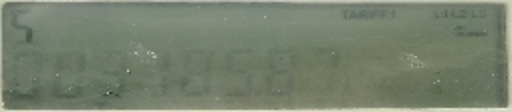0: (7, 50, 44, 101), (53, 48, 89, 100)
1: (154, 39, 177, 102)
3: (95, 44, 133, 100)
5: (222, 43, 252, 99)
7: (303, 39, 340, 98)
8: (176, 40, 215, 100), (267, 47, 295, 99)
d: (253, 91, 263, 99)
